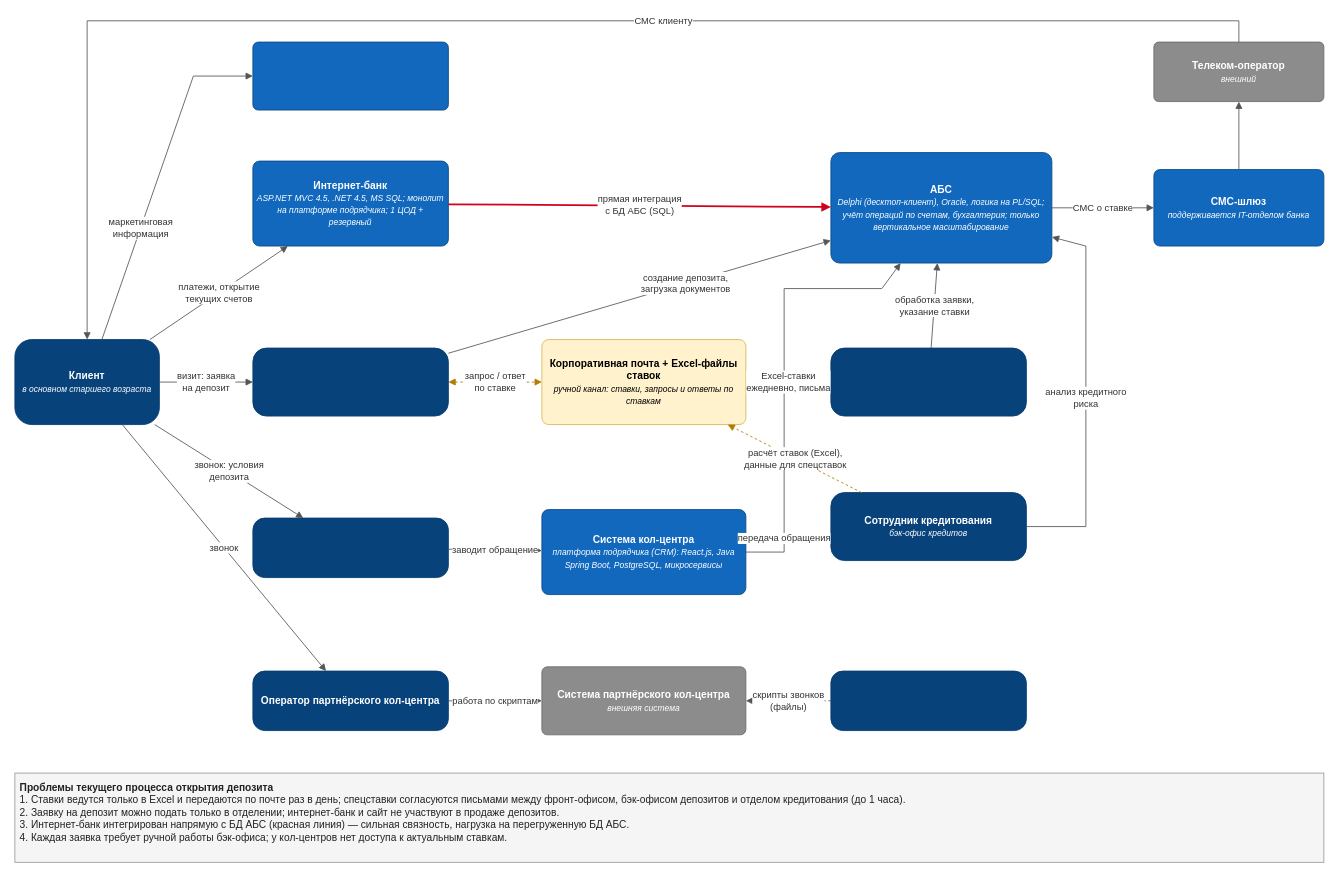
This 1339x877 diagram has some shape labels left out. Here are the shapes that lost their labels. From the top down, the centre of each, then its label:
(x=350, y=75): Сайт PHP, React.js; только маркетинговая информация
(x=350, y=381): Сотрудник отделения фронт-офис
(x=928, y=381): Менеджер депозитов бэк-офис депозитов
(x=350, y=547): Оператор кол-центра банка
(x=928, y=700): Бизнес-представители банка
